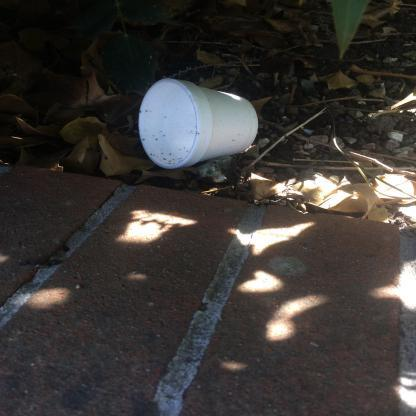kopuk: (139, 80, 260, 170)
